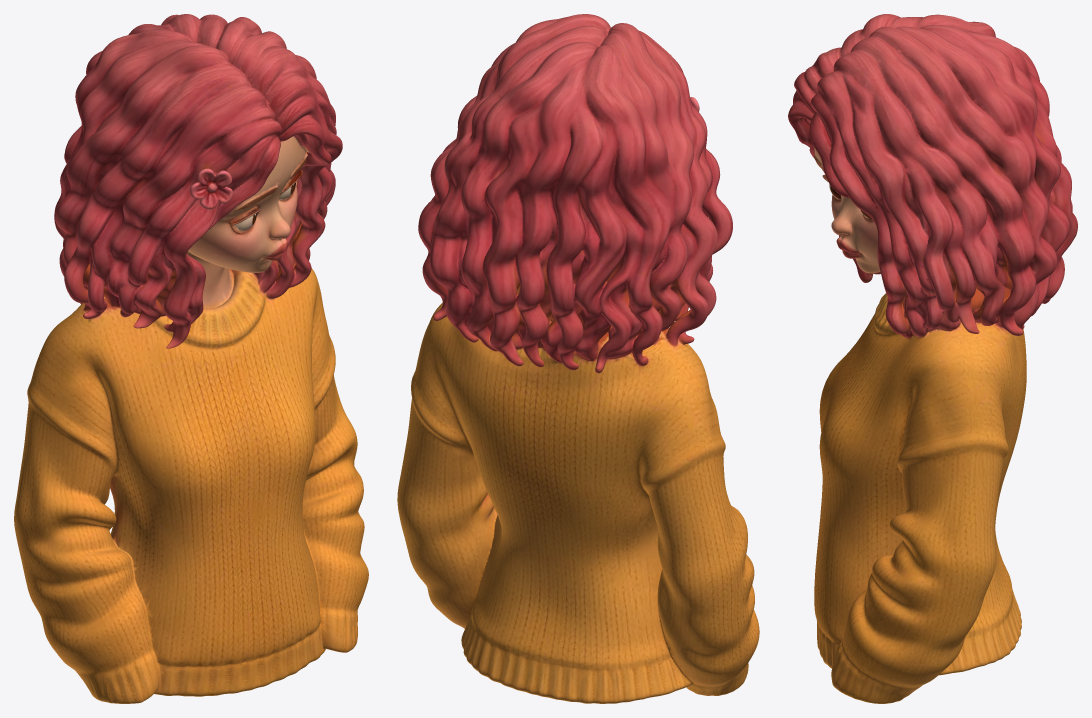
File: portrait-web.glb
3 renders of one model, left to right at view 1: azimuth 30°, elevation 25°; view 2: azimuth 150°, elevation 25°; view 3: azimuth 270°, elevation 25°, orthographic. The views are drawn at different scales.
Visible parts, largest first — view 1: mesh_node; view 2: mesh_node; view 3: mesh_node.
Boxes of the visible parts, left/top/right/bottom form: mesh_node: left=14, top=14, right=368, bottom=703; mesh_node: left=397, top=14, right=759, bottom=703; mesh_node: left=788, top=14, right=1077, bottom=703.
Bounding box in the file's own units: 1.03 × 1.9 × 0.7991.
1 material, 1 textured.
